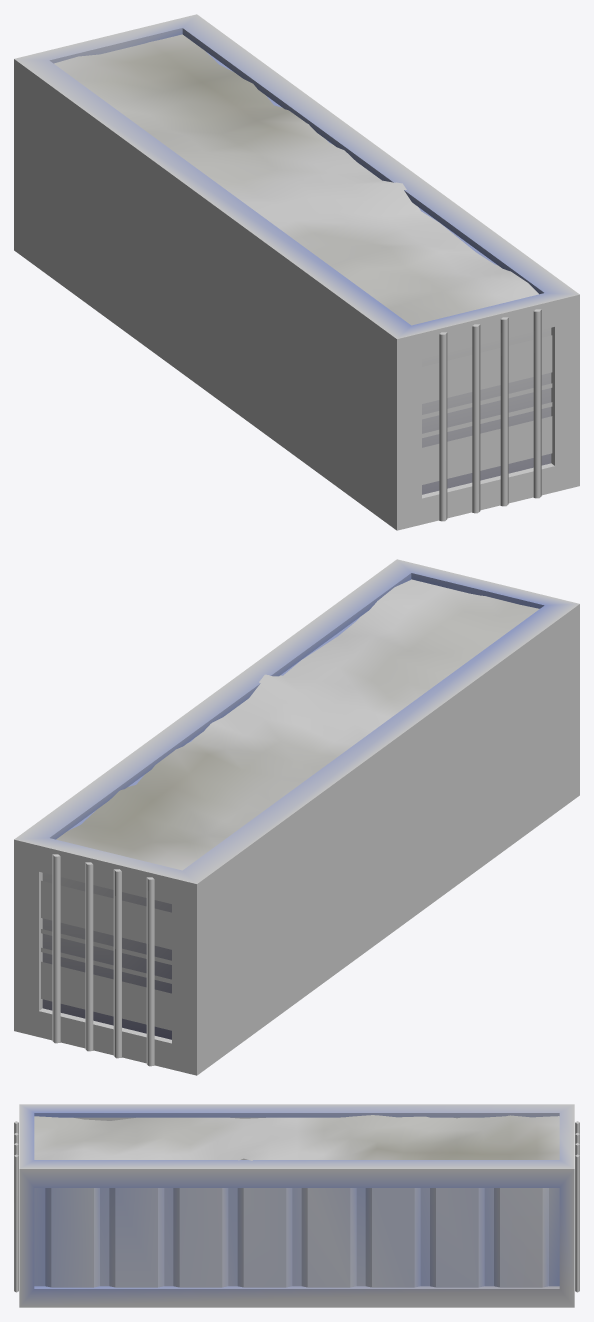
The model's file is sandbox-blue.fbx.
3 views of the same model, one above another, from view 1: azimuth 30°, elevation 25°; view 2: azimuth 150°, elevation 25°; view 3: azimuth 270°, elevation 25° (orthographic). The views are drawn at different scales.
Parts seen in each view (by area): view 1: sandbox-blue.005; view 2: sandbox-blue.005; view 3: sandbox-blue.005.
Boxes of the visible parts, bbox=[...] form: sandbox-blue.005: bbox=[14, 14, 579, 530]; sandbox-blue.005: bbox=[14, 559, 579, 1075]; sandbox-blue.005: bbox=[14, 1104, 579, 1307].
Bounding box in the file's own units: 80 × 81.37 × 296.
